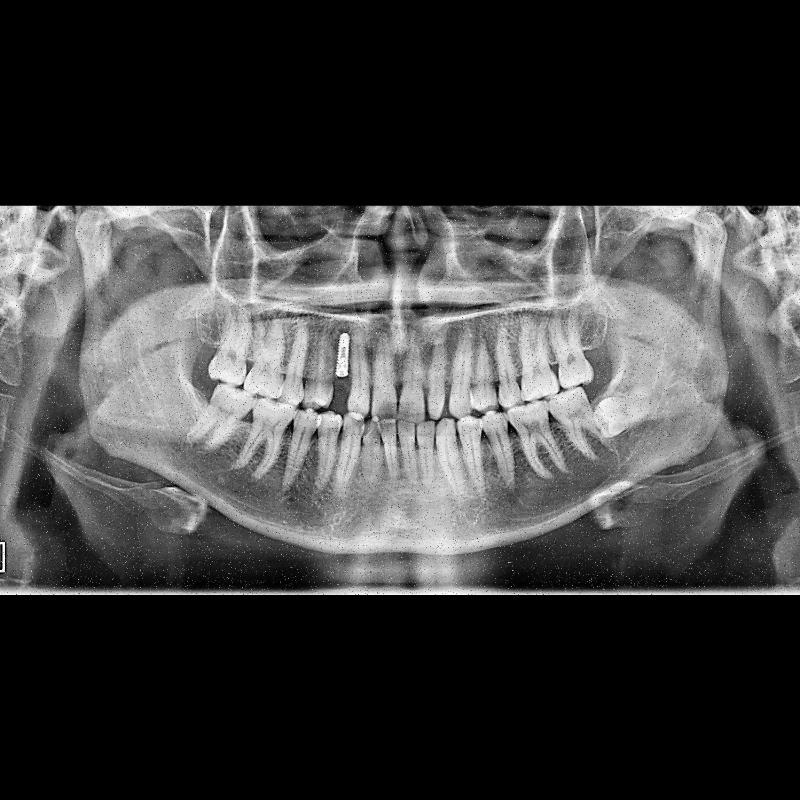osstem: (334, 331, 354, 379)
